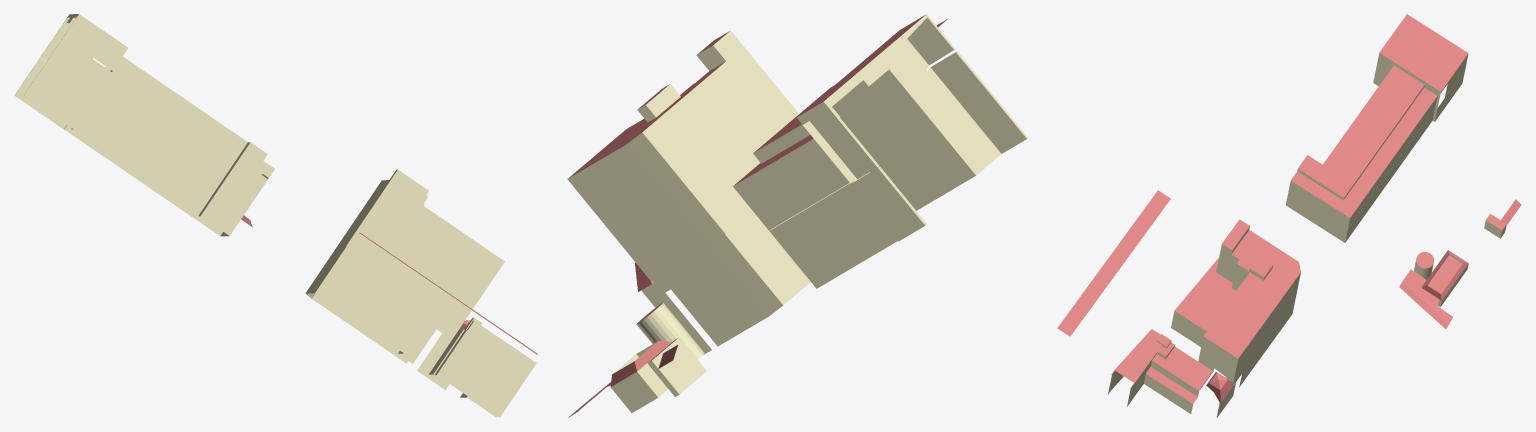
Rendered from tile_088.glb.
3 views of the same model, side by side, from view 1: azimuth 30°, elevation 25°; view 2: azimuth 150°, elevation 25°; view 3: azimuth 270°, elevation 25° (orthographic). The views are drawn at different scales.
Parts seen in each view (by area): view 1: Batched_Building_ID_978891CE-51B5-4792-A455-1ABE560D1502; view 2: Batched_Building_ID_978891CE-51B5-4792-A455-1ABE560D1502, Batched_Building_ID_4BE50723-FDA7-4A0D-8963-8022A1D7830A; view 3: Batched_Building_ID_4BE50723-FDA7-4A0D-8963-8022A1D7830A, Batched_Building_ID_978891CE-51B5-4792-A455-1ABE560D1502.
Part boxes in pixels (x1,y1,x2,y2): Batched_Building_ID_978891CE-51B5-4792-A455-1ABE560D1502: [14, 14, 538, 417]; Batched_Building_ID_978891CE-51B5-4792-A455-1ABE560D1502: [567, 14, 1028, 417]; Batched_Building_ID_4BE50723-FDA7-4A0D-8963-8022A1D7830A: [568, 15, 947, 416]; Batched_Building_ID_4BE50723-FDA7-4A0D-8963-8022A1D7830A: [1057, 14, 1521, 403]; Batched_Building_ID_978891CE-51B5-4792-A455-1ABE560D1502: [1059, 53, 1506, 417].
Bounding box in the file's own units: 128 × 114 × 161.
